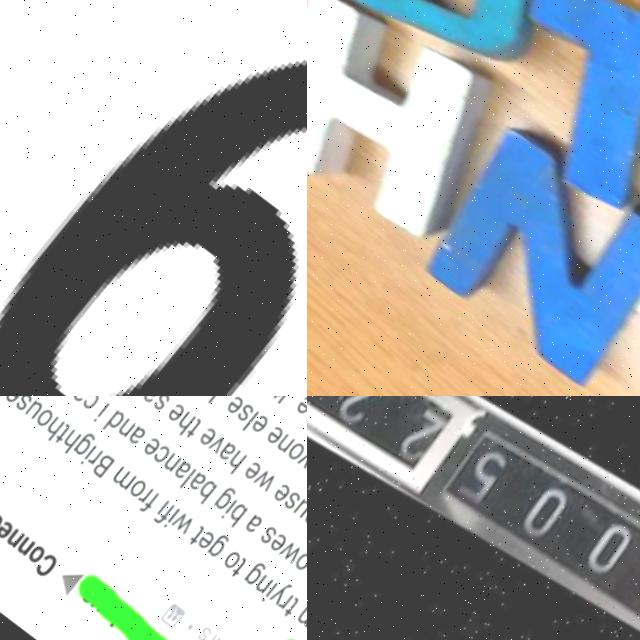0: (517, 486, 585, 557), (577, 522, 640, 596)
2: (391, 408, 460, 480), (327, 396, 399, 440)
5: (452, 444, 525, 520)
9: (0, 0, 307, 396)
H: (307, 0, 540, 264)
N: (399, 102, 640, 396)
